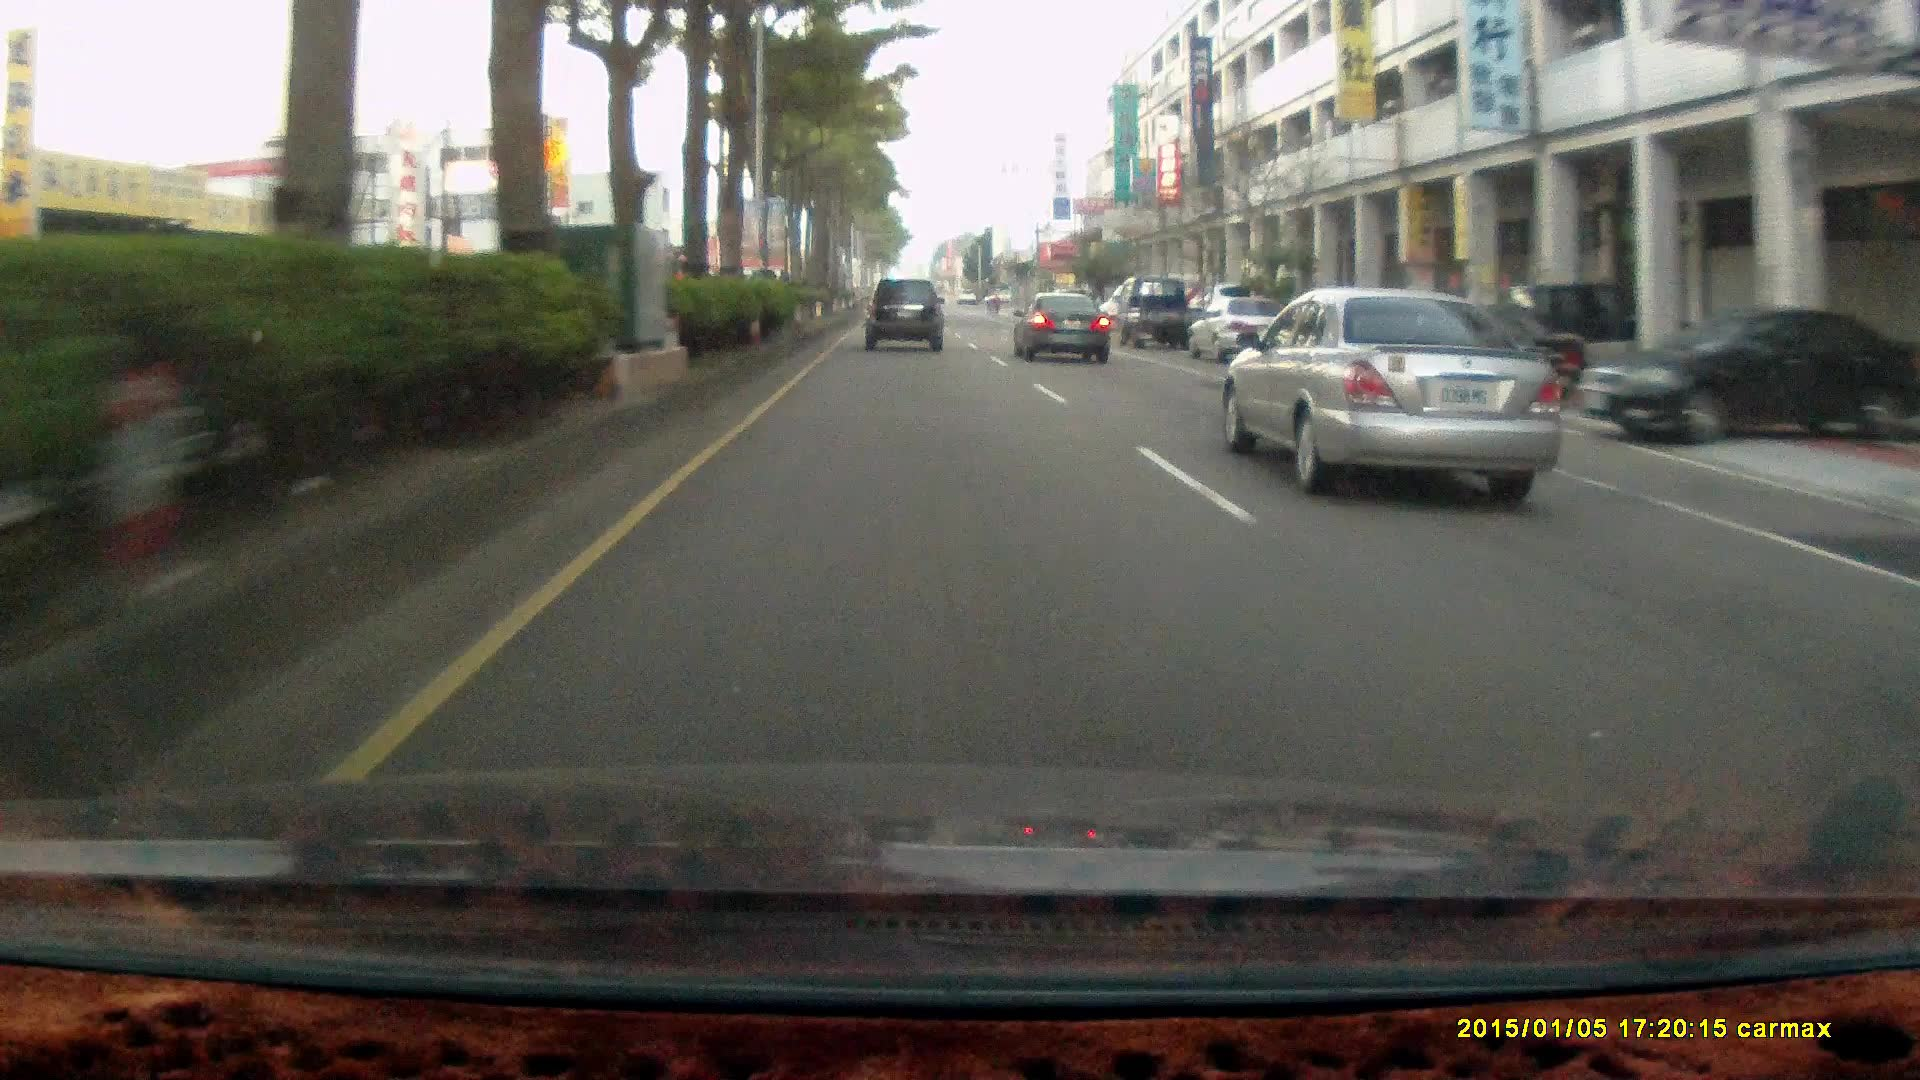vehicle: (1222, 287, 1565, 497), (1594, 306, 1912, 454), (1575, 310, 1920, 444), (1360, 299, 1586, 417), (1184, 297, 1298, 368), (1193, 298, 1302, 371), (1018, 297, 1118, 368), (1011, 291, 1112, 361), (1113, 278, 1203, 356), (864, 280, 947, 356), (1113, 274, 1197, 349), (861, 278, 944, 349)
